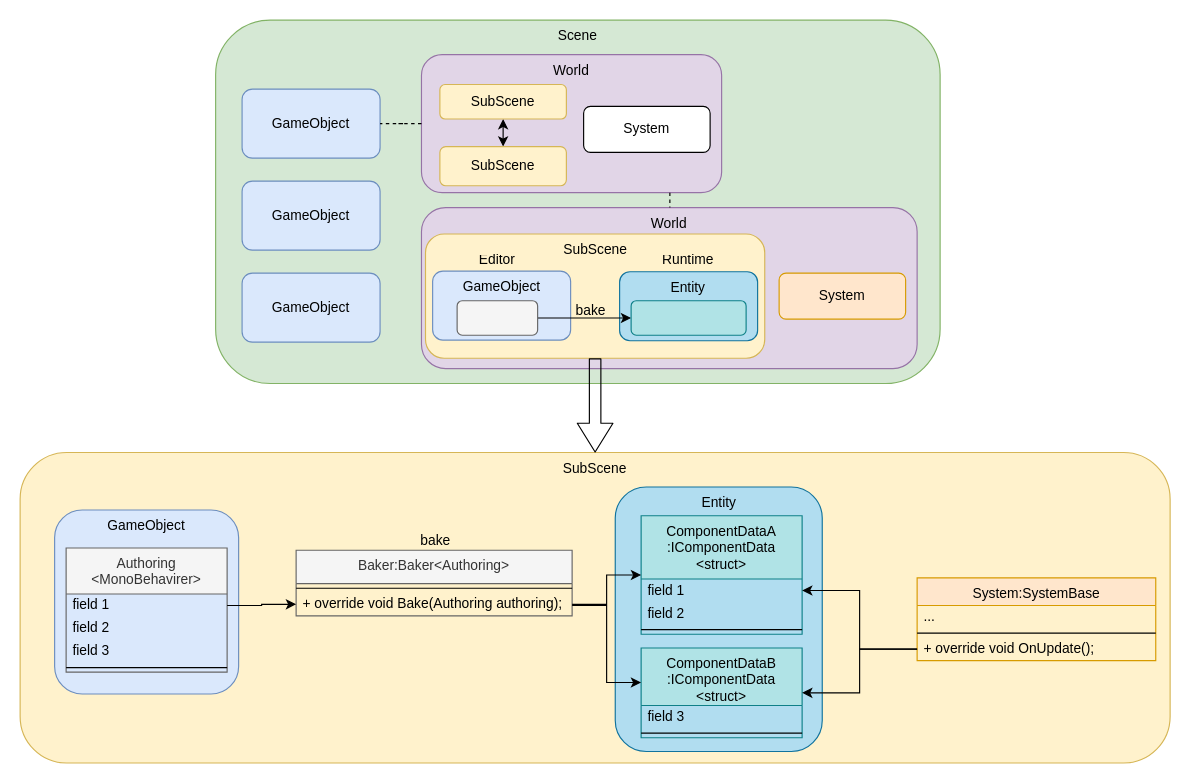
Image size: 1190x783. Some labels were removed from this diagram. Each missing label, with the centre of its shape:
"Authoring" goes at (x=497, y=317).
"ComponentData" goes at (x=688, y=317).
